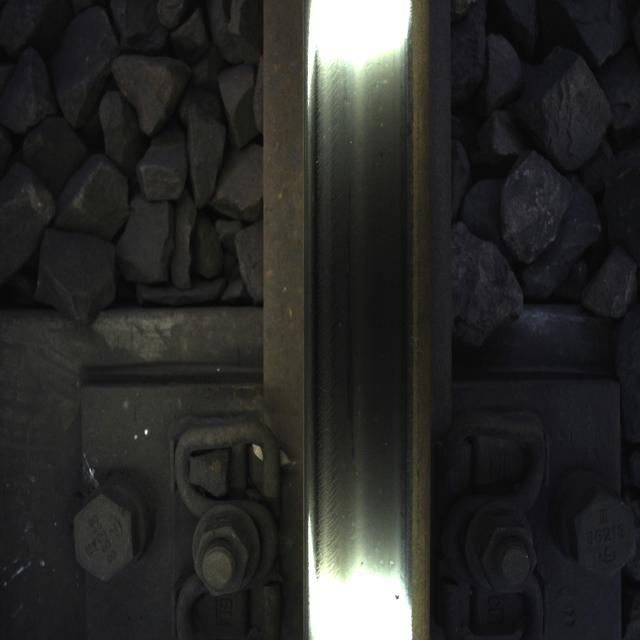break: (316, 49, 409, 606)
